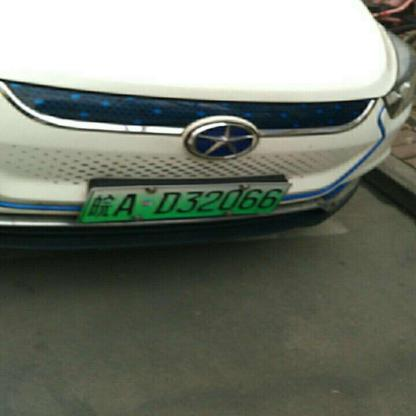lp: (78, 184, 290, 221)
